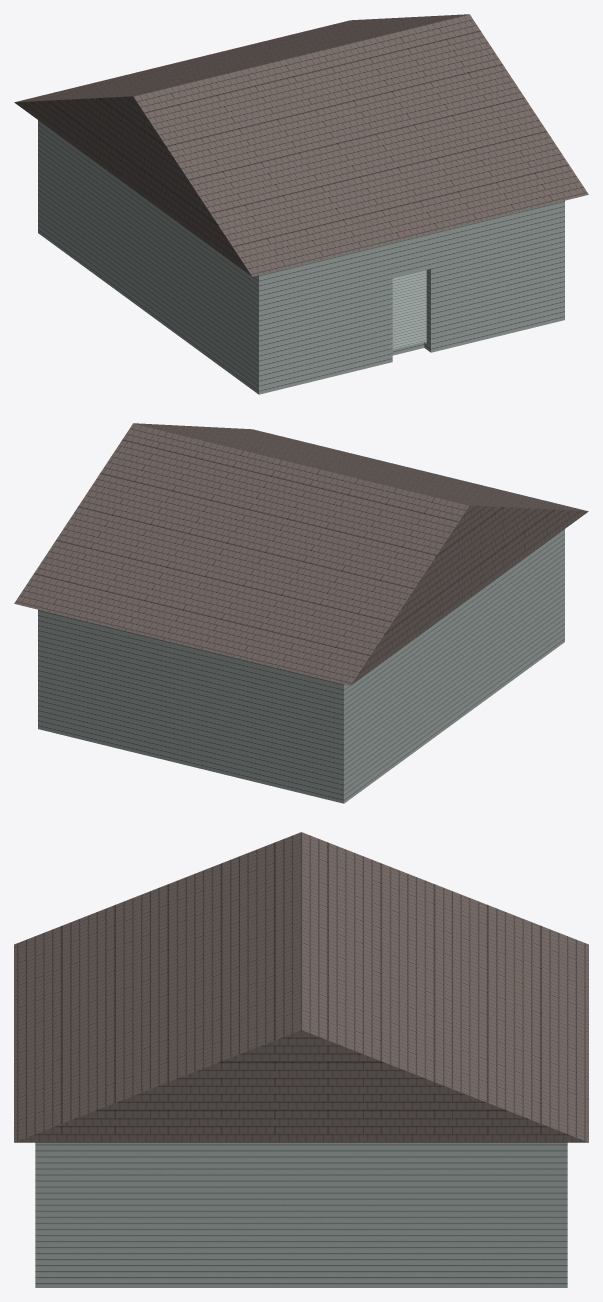
File: school_oneroom.glb
The picture shows the model from 3 angles, top to bottom: view 1: azimuth 30°, elevation 25°; view 2: azimuth 150°, elevation 25°; view 3: azimuth 270°, elevation 25°; orthographic projection. The views are drawn at different scales.
Parts seen in each view (by area): view 1: school_oneroom-col; view 2: school_oneroom-col; view 3: school_oneroom-col.
Boxes of the visible parts, <box> form: school_oneroom-col: <box>14,14,588,394</box>; school_oneroom-col: <box>14,423,588,803</box>; school_oneroom-col: <box>14,832,588,1287</box>.
Size of the model in its own units: 8.8 by 5.53 by 10.8.
Materials: 2 (2 with a texture image).
